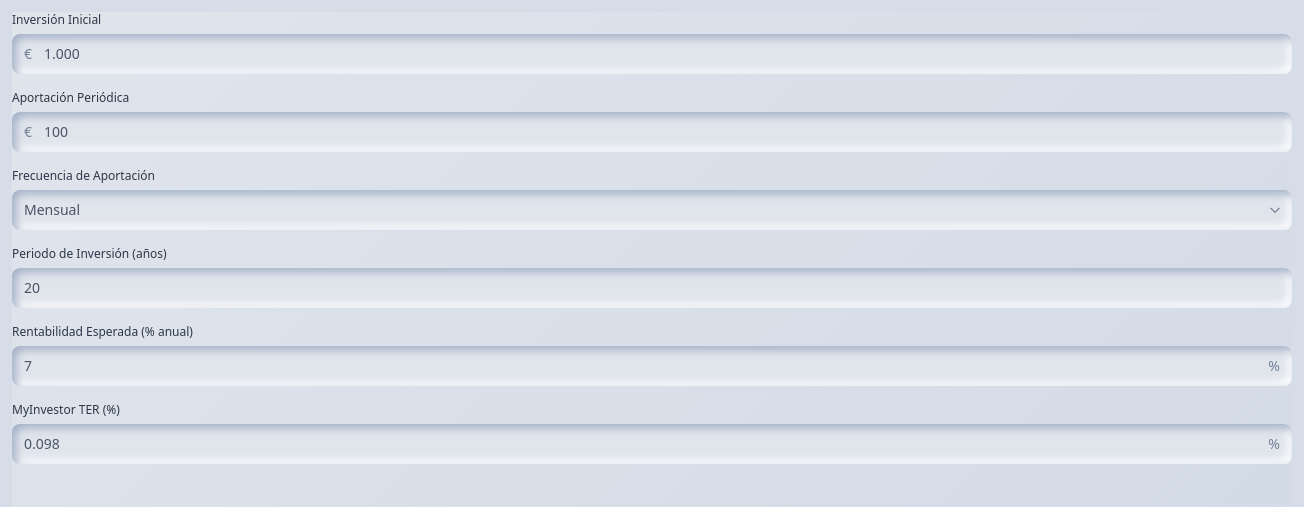
SimulatorForm numeric input validation › should show error when TER is below minimum (0.05)
Replace the text in the number field labelled "MyInvestor TER (%)" with "0.01": [652, 444] box x1=12 y1=424 x2=1292 y2=464
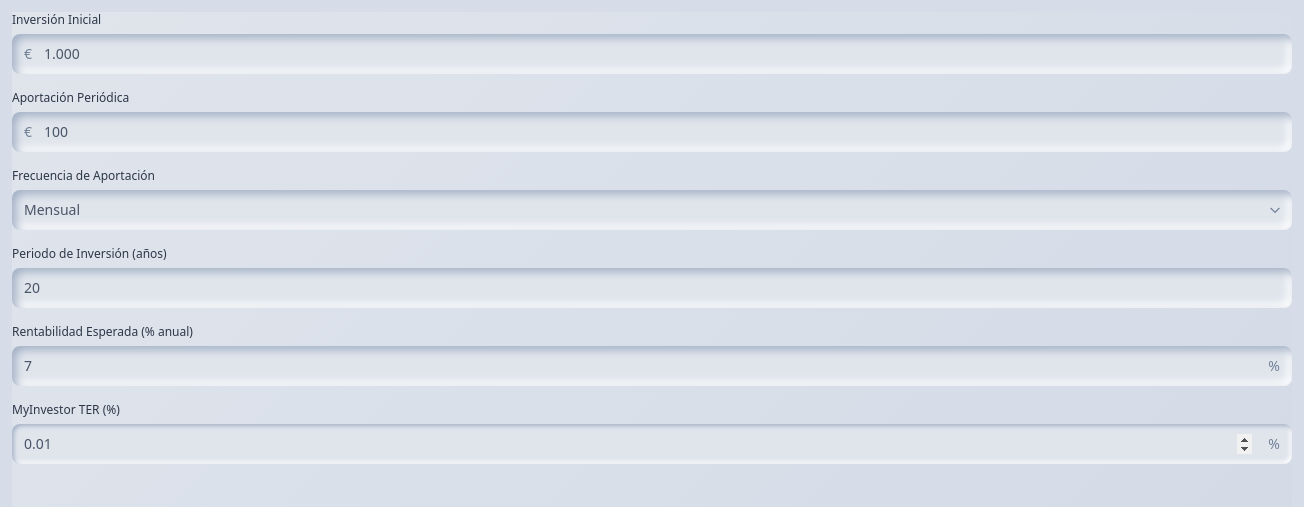
Press Tab
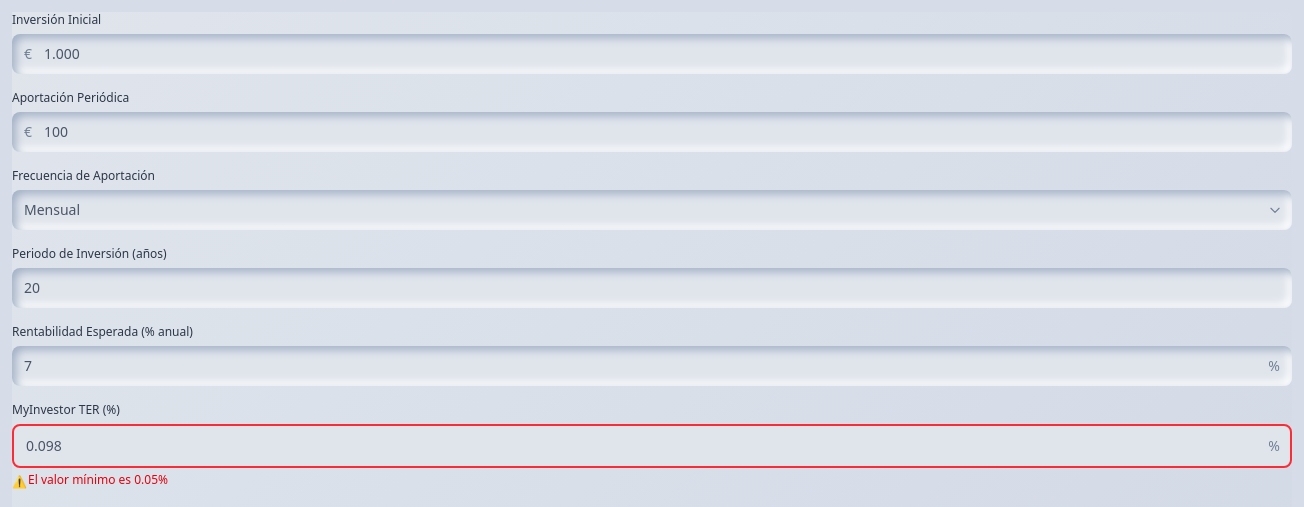
Check: the text "⚠ El valor mínimo es 0.05%" is shown, box x1=12 y1=471 x2=168 y2=490
